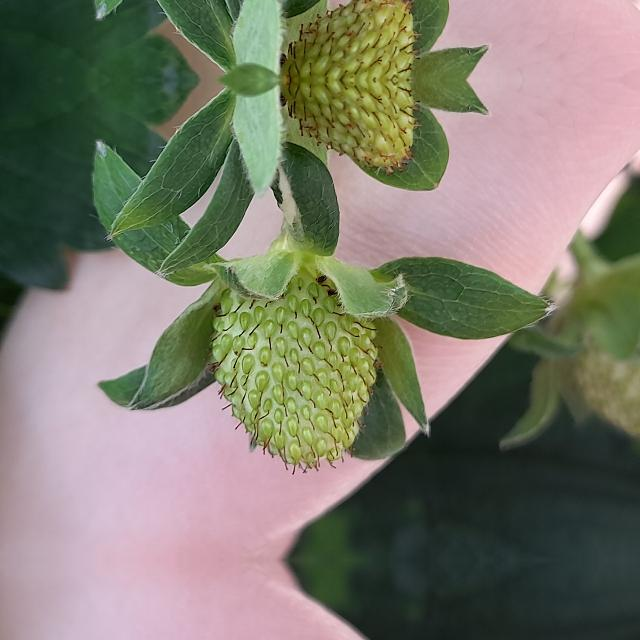Health_25: (204, 270, 382, 474)
